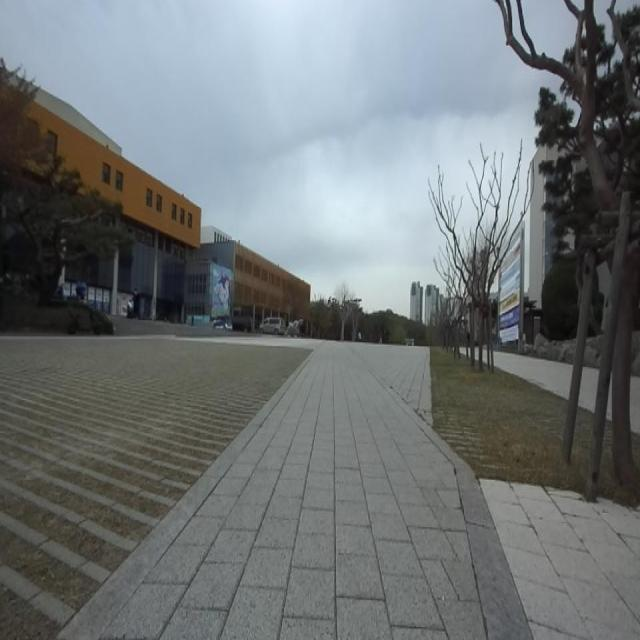sidewalk: (62, 343, 486, 639), (480, 479, 640, 639), (494, 351, 574, 399), (580, 366, 600, 411), (632, 376, 640, 433)
